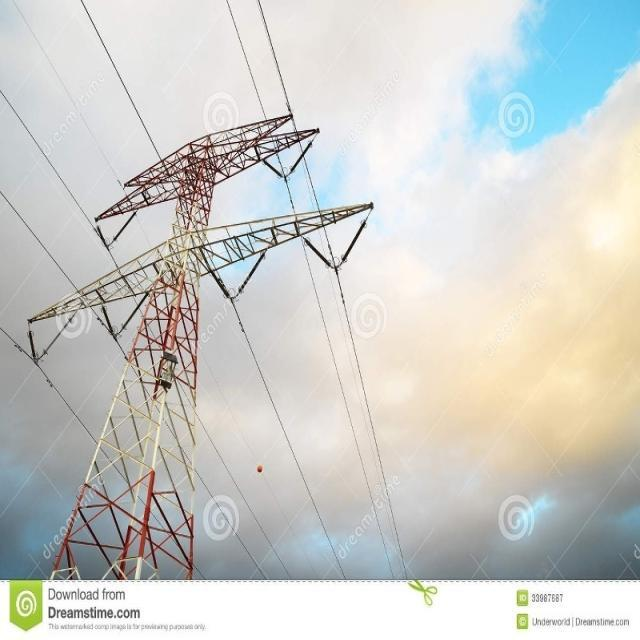non-critical vegetation: (13, 104, 390, 576)
